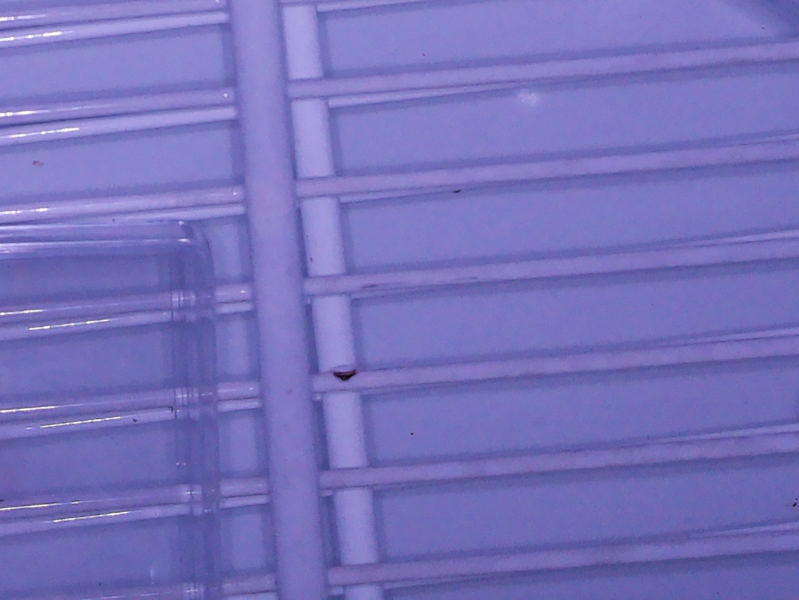plate: (1, 215, 227, 600)
